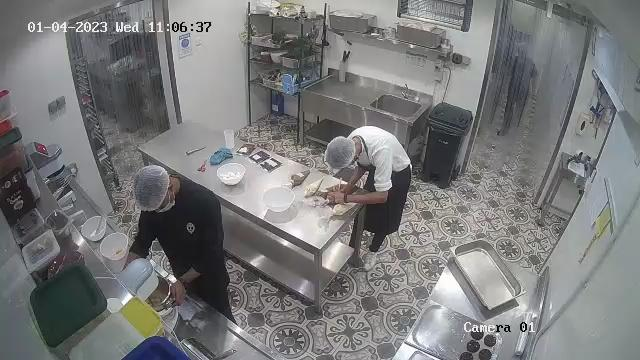no_apron: (150, 180, 219, 282)
